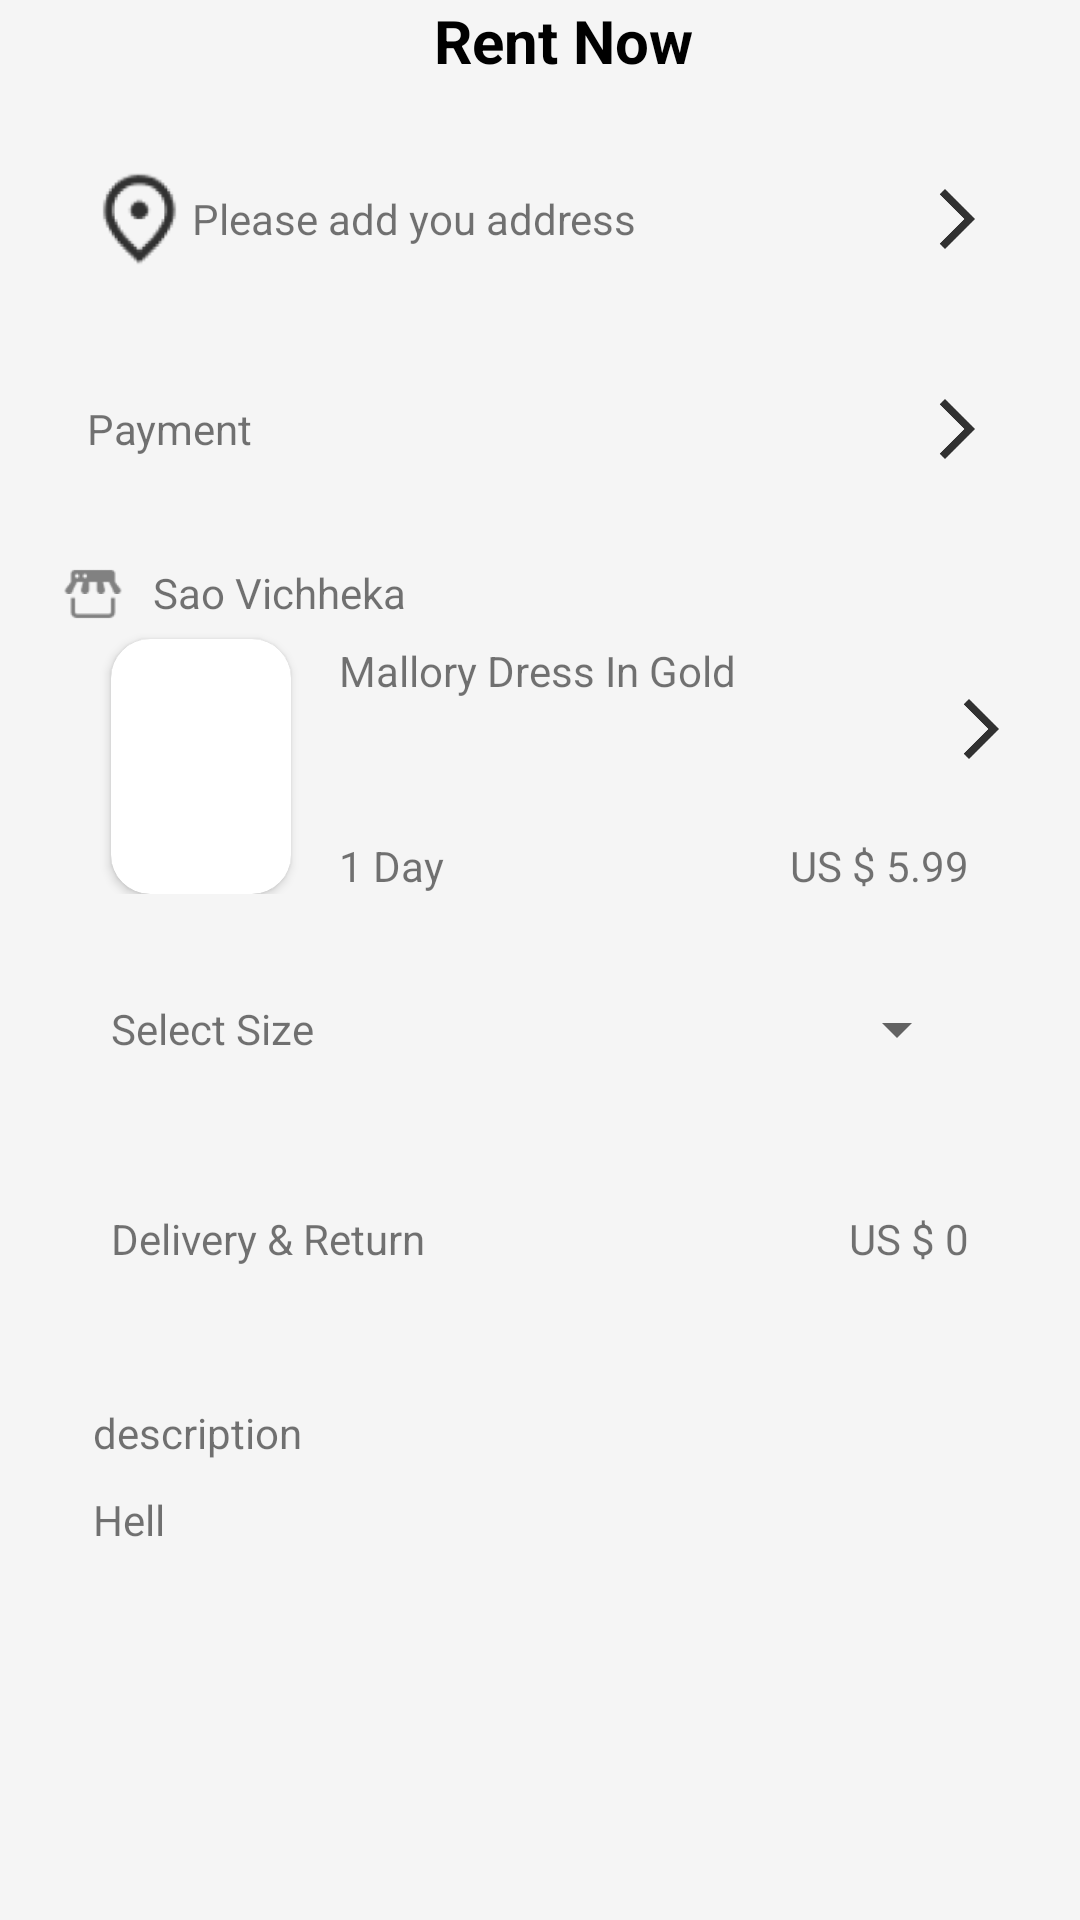

Icons on this 1080 × 1920 Android screen, each with the point to tap as (x,y):
arrow next: (957,219), (957,429), (981,729)
store: (93,594)
